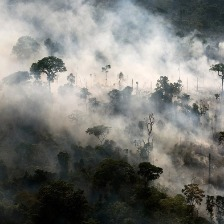incendio: (117, 103, 199, 144), (179, 121, 221, 198), (63, 113, 127, 158), (26, 60, 77, 116), (123, 139, 174, 188), (82, 62, 130, 107), (136, 70, 187, 111), (1, 59, 28, 123)
